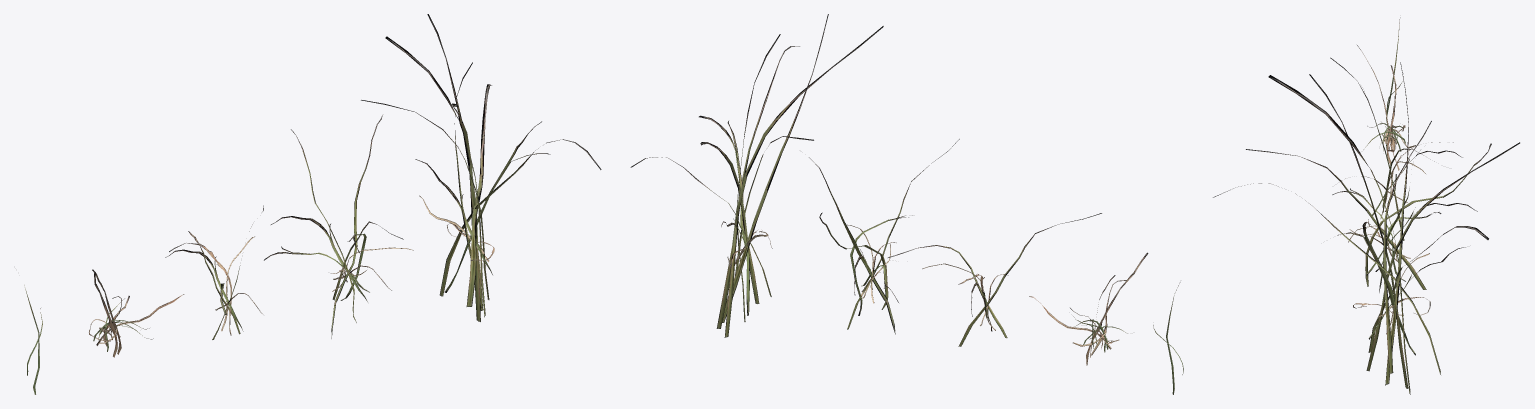
File: grass_medium_02.glb
3 views of the same model, side by side, from view 1: azimuth 30°, elevation 25°; view 2: azimuth 150°, elevation 25°; view 3: azimuth 270°, elevation 25° (orthographic). The views are drawn at different scales.
Parts seen in each view (by area): view 1: grass_medium_02_e, grass_medium_02_d, grass_medium_02_c, grass_medium_02_b; view 2: grass_medium_02_e, grass_medium_02_d, grass_medium_02_c, grass_medium_02_b; view 3: grass_medium_02_e, grass_medium_02_d, grass_medium_02_c, grass_medium_02_b.
Boxes of the visible parts, x1,y1,x2,y2 form: grass_medium_02_e: (361, 14, 601, 321); grass_medium_02_d: (264, 114, 413, 338); grass_medium_02_c: (165, 205, 263, 339); grass_medium_02_b: (89, 269, 184, 357); grass_medium_02_e: (630, 14, 883, 337); grass_medium_02_d: (809, 139, 959, 334); grass_medium_02_c: (888, 213, 1101, 346); grass_medium_02_b: (1029, 252, 1148, 365); grass_medium_02_e: (1213, 62, 1519, 394); grass_medium_02_d: (1246, 143, 1491, 292); grass_medium_02_c: (1330, 57, 1462, 240); grass_medium_02_b: (1357, 45, 1415, 170).
Size of the model in its own units: 1.31 by 0.7553 by 0.6939.
1 material, 1 textured.
